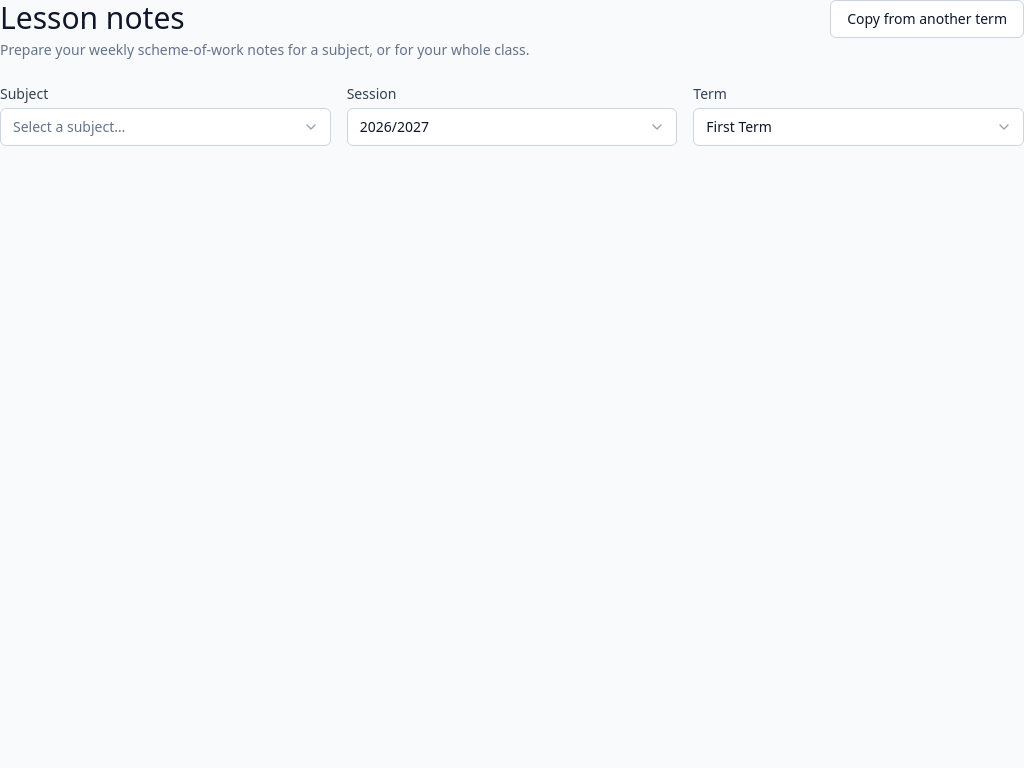
LessonNotesPage › copy from another term › submits a copy and renders a copied/skipped outcome row
This screenshot has width=1024, height=768.
Click the button "Copy from another term" at (927, 19), box left=830, top=0, right=1023, bottom=38
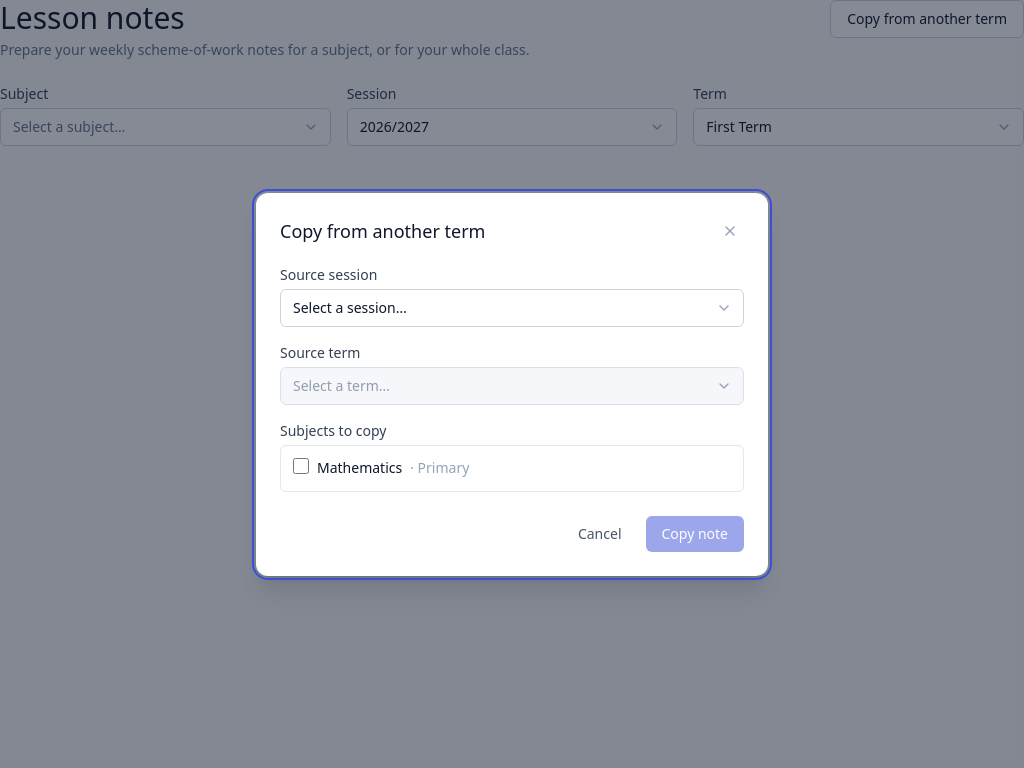
Expected: the text "Subjects to copy" is shown, left=280, top=420, right=386, bottom=440
Select "2026/2027" in the dropdown labelled "Source session" at (512, 308), box left=280, top=288, right=744, bottom=326
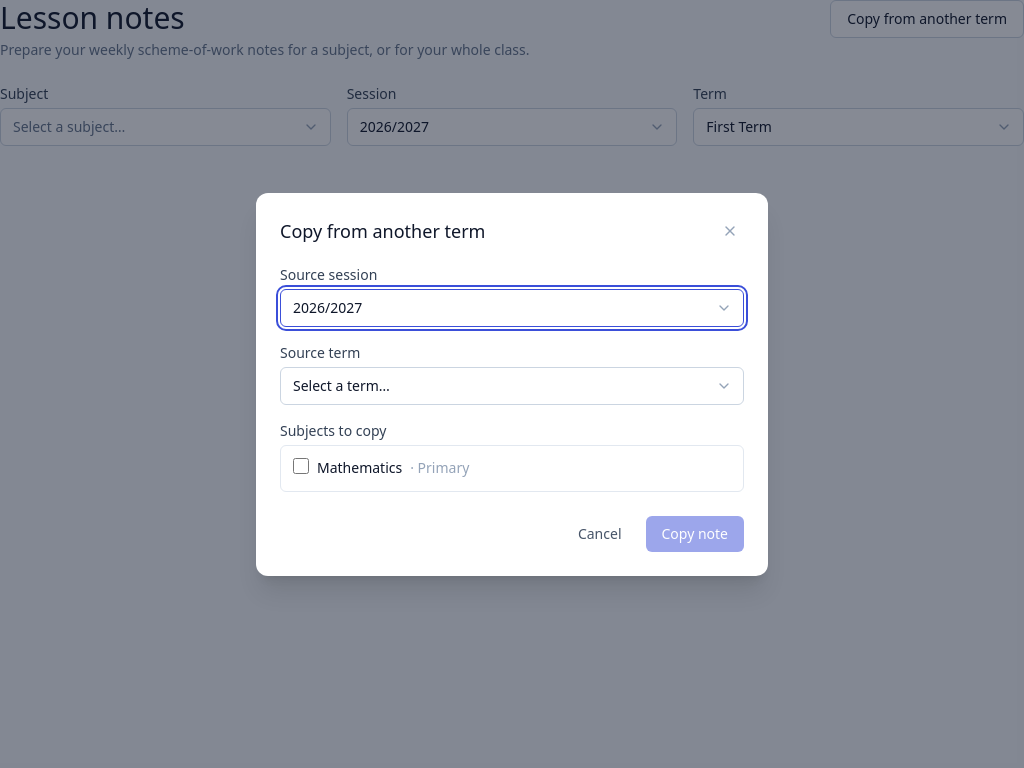
Select "Zeroth Term" in the dropdown labelled "Source term" at (512, 386), box left=280, top=366, right=744, bottom=404
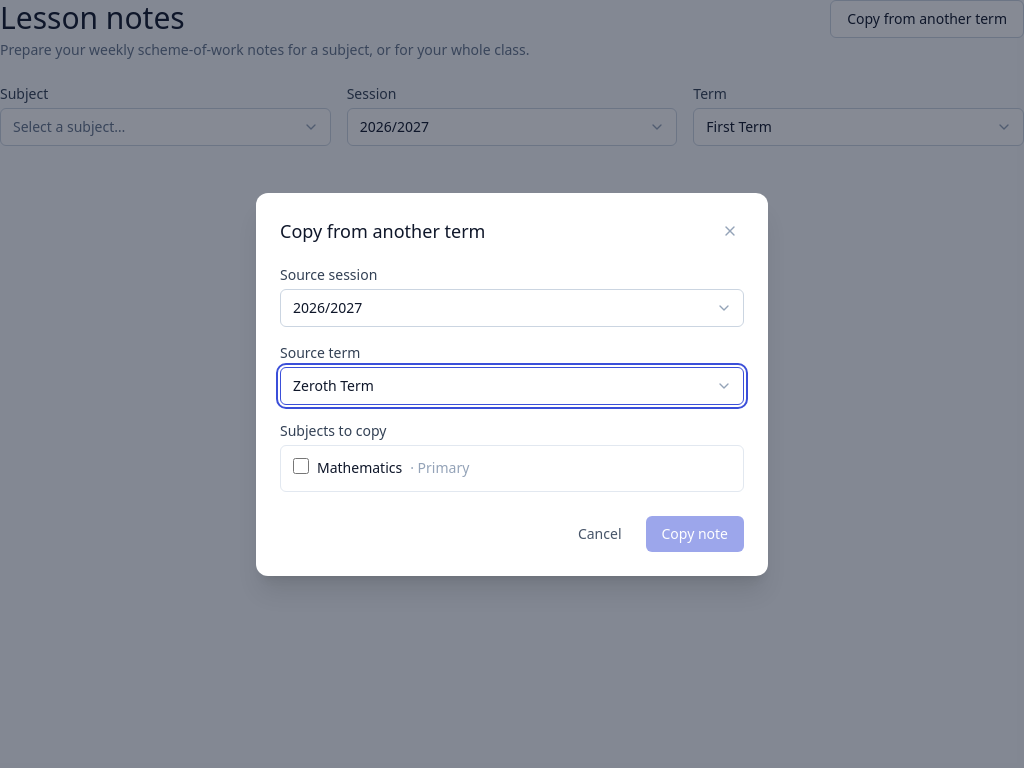
Click the checkbox labelled "Mathematics · Primary" at (301, 466), box left=293, top=458, right=309, bottom=474
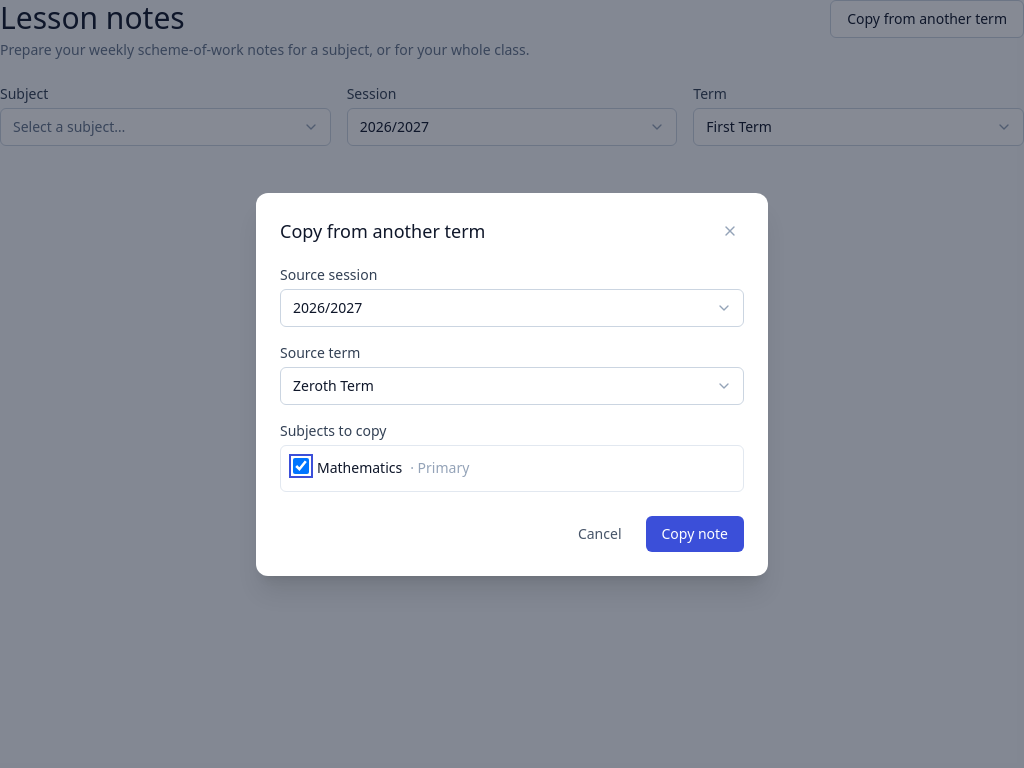
Click the button "Copy note" at (695, 534), box left=646, top=516, right=744, bottom=552
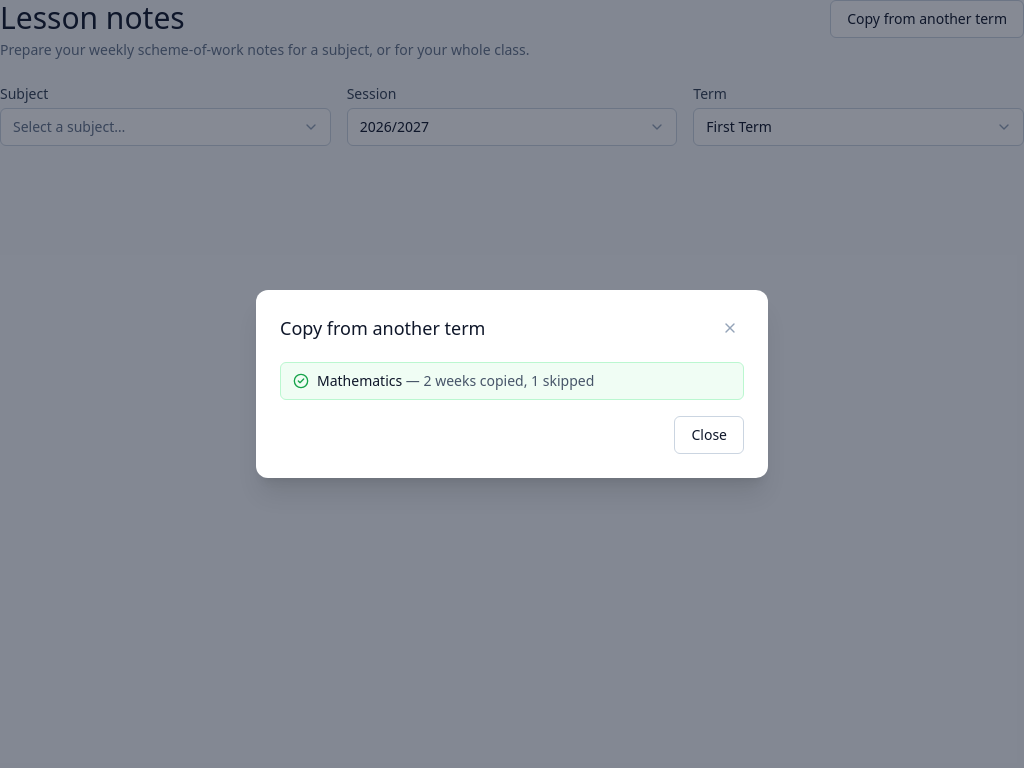
Expected: the text "— 2 weeks copied, 1 skipped" is shown, left=402, top=371, right=594, bottom=390
